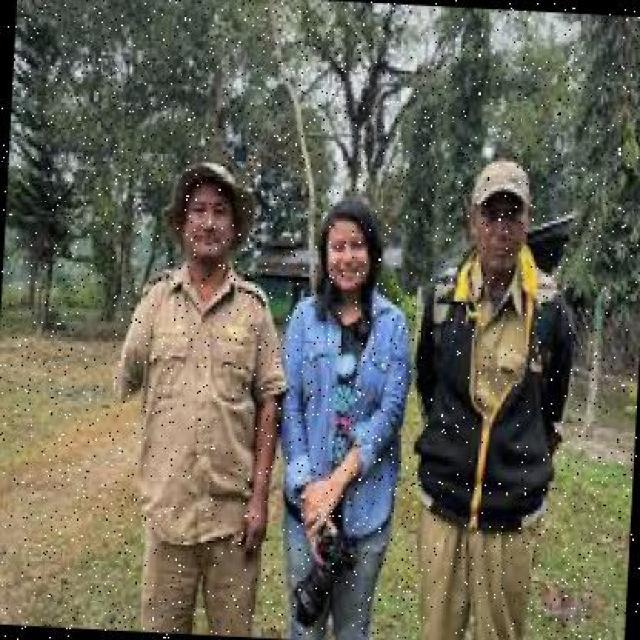poacher: (76, 153, 276, 604), (272, 186, 412, 603), (423, 145, 543, 598)
